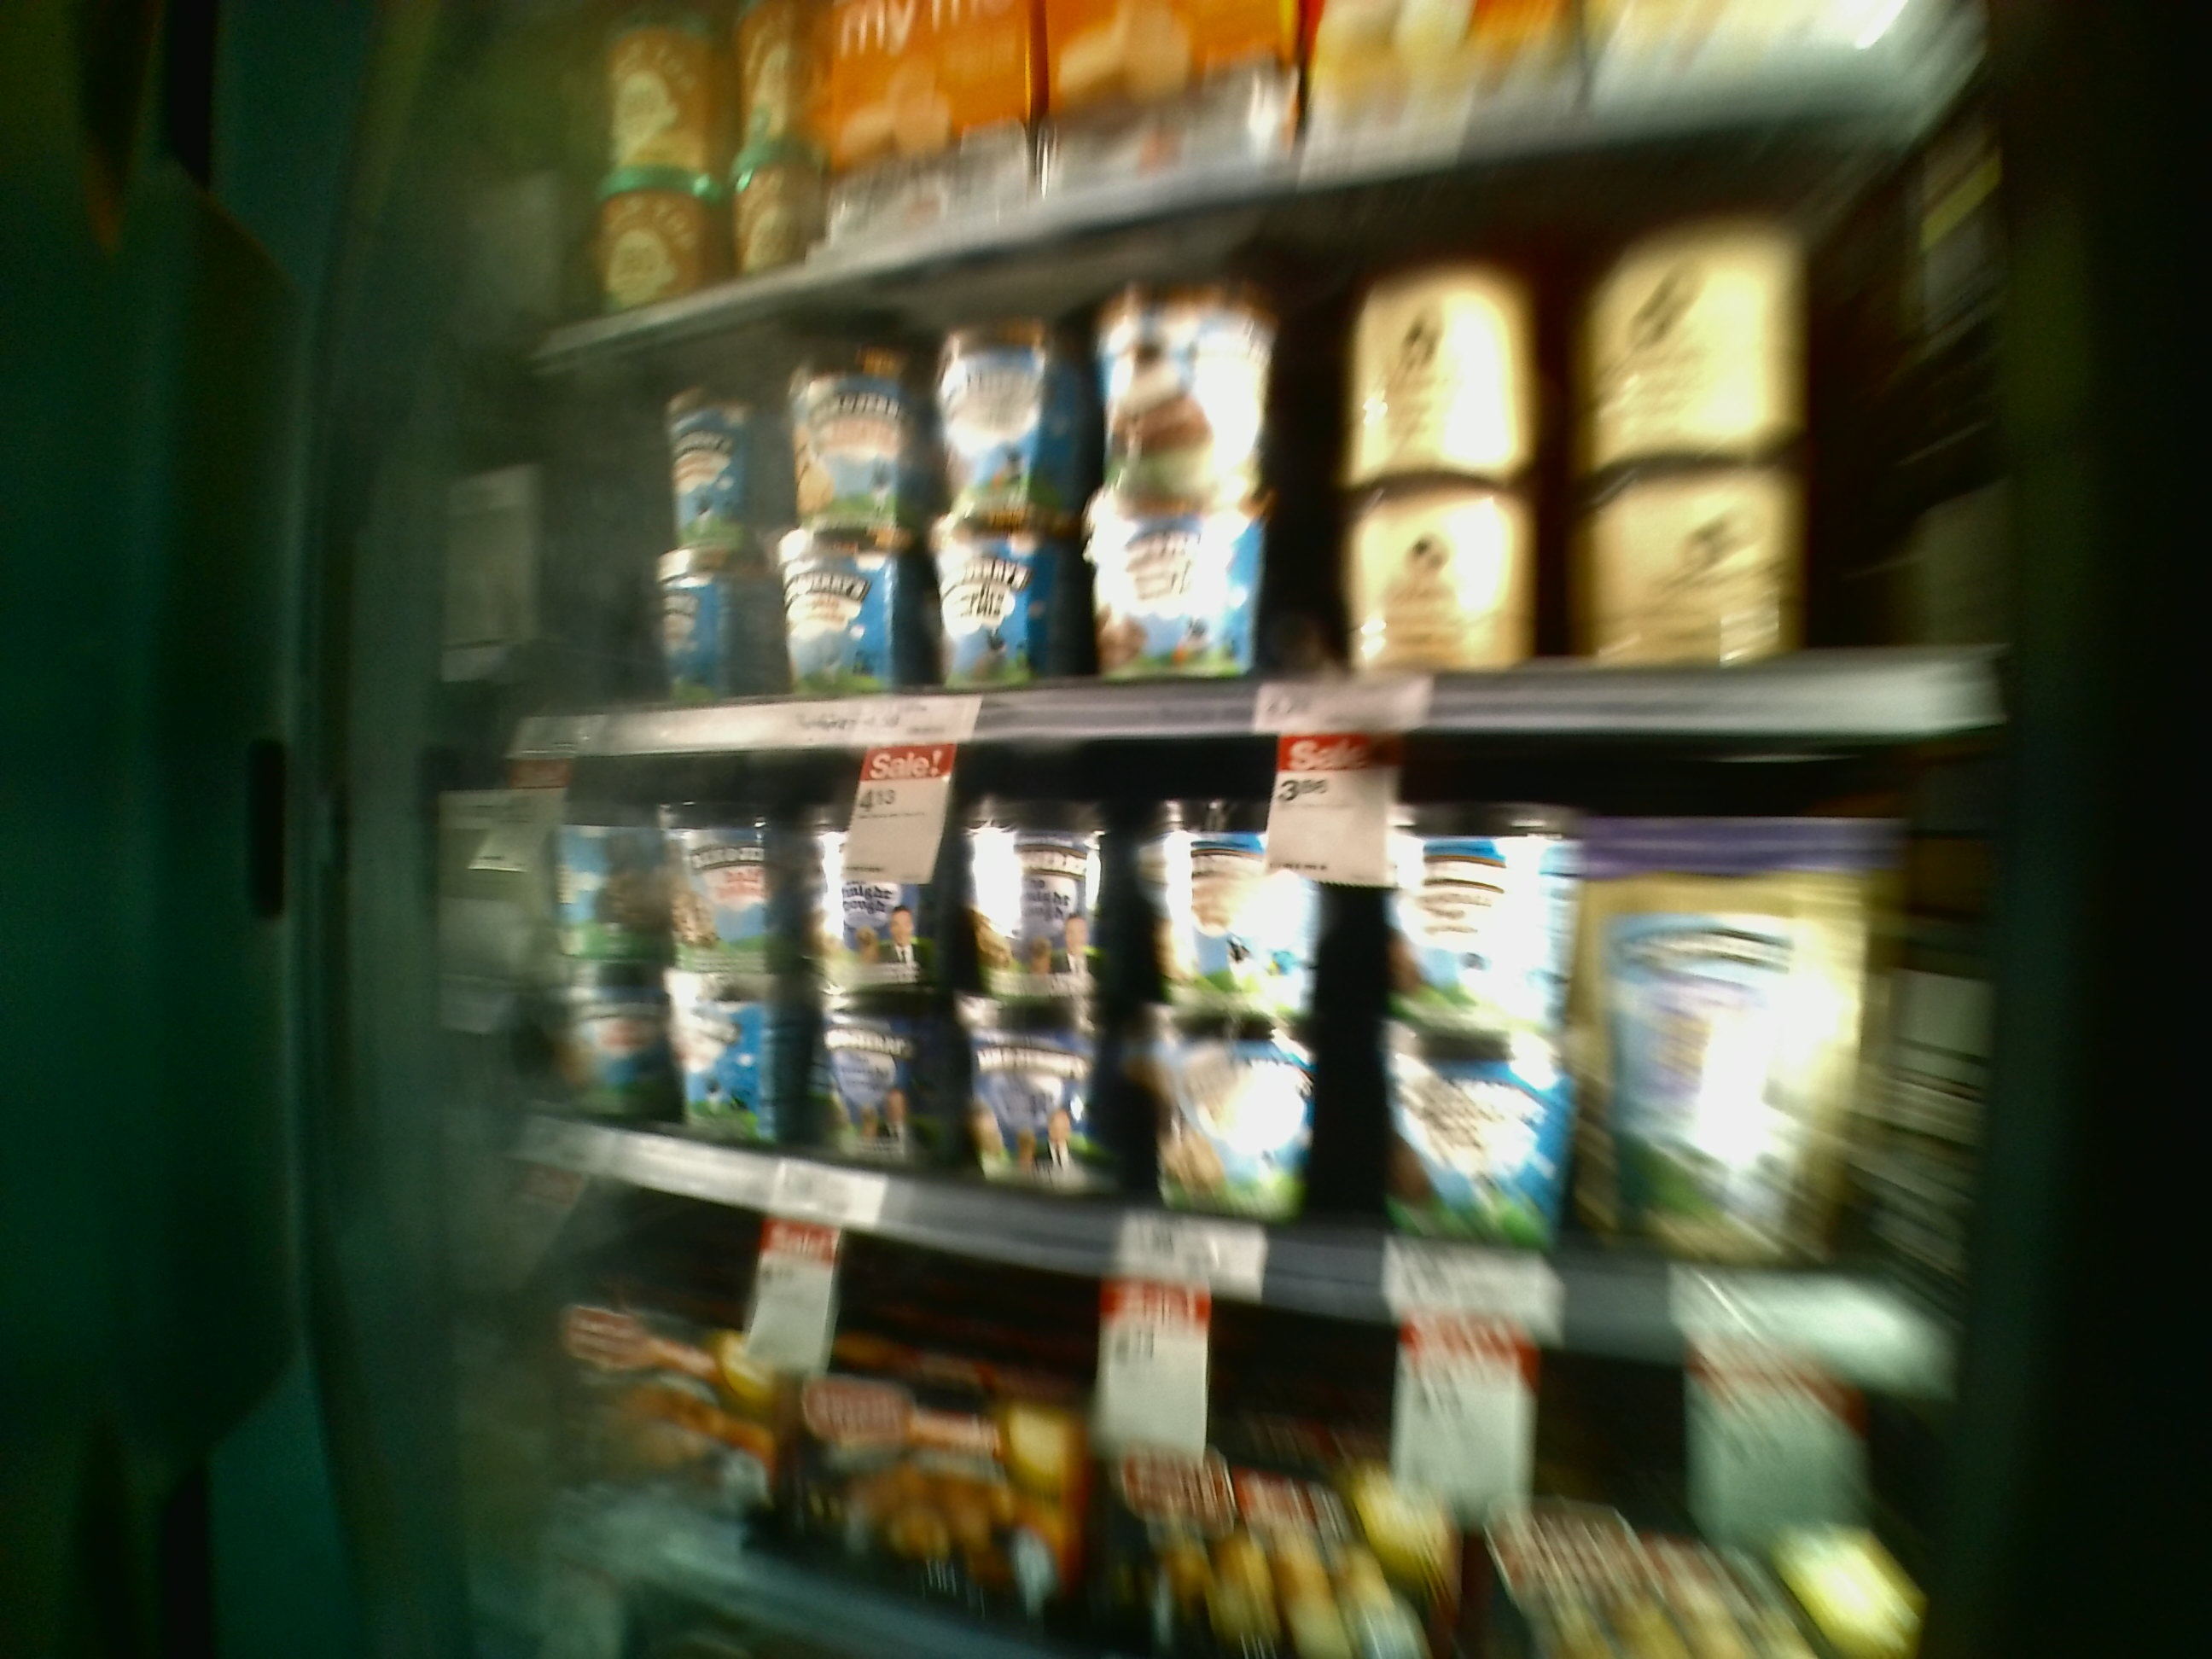shelf: (505, 737, 1975, 1366), (512, 234, 1993, 755)
